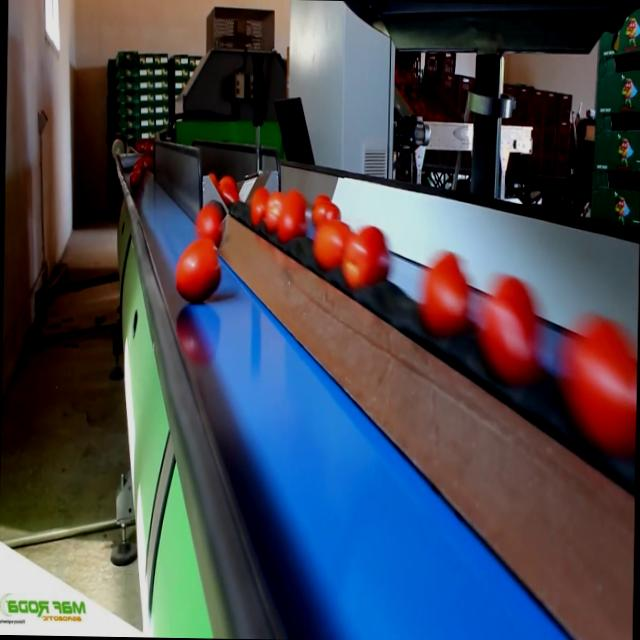Tomato: (558, 305, 638, 458), (480, 276, 542, 384), (422, 248, 471, 335), (176, 234, 223, 308), (342, 225, 385, 302), (312, 220, 348, 269), (276, 202, 306, 243), (196, 206, 223, 243), (220, 174, 240, 206), (322, 198, 340, 231), (314, 195, 328, 232), (253, 189, 269, 221), (286, 194, 306, 209), (128, 170, 140, 190), (142, 156, 151, 168), (134, 162, 142, 174)
